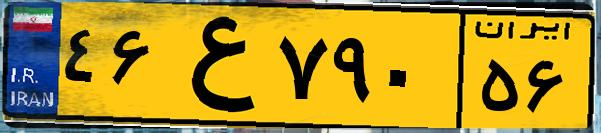0: (385, 28, 445, 110)
4: (57, 26, 110, 100)
5: (475, 38, 525, 113)
6: (525, 38, 570, 115), (110, 28, 158, 98)
7: (270, 28, 330, 110)
9: (330, 28, 385, 110)
ع: (158, 12, 270, 120)
